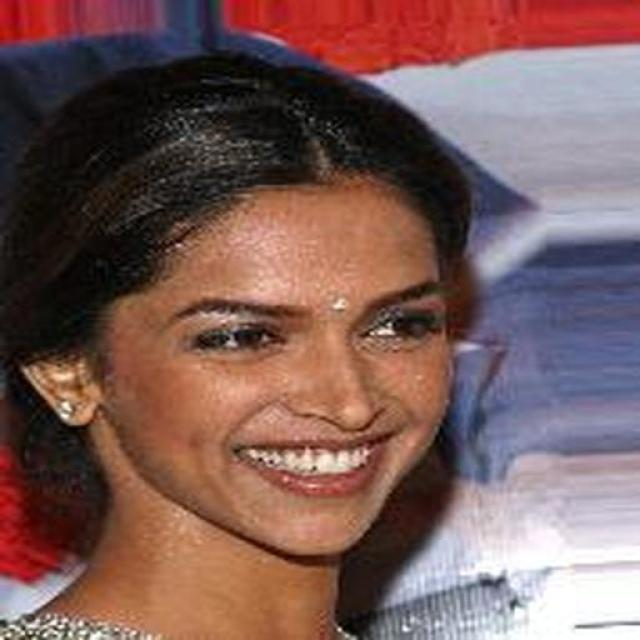bareface: (55, 114, 526, 580)
